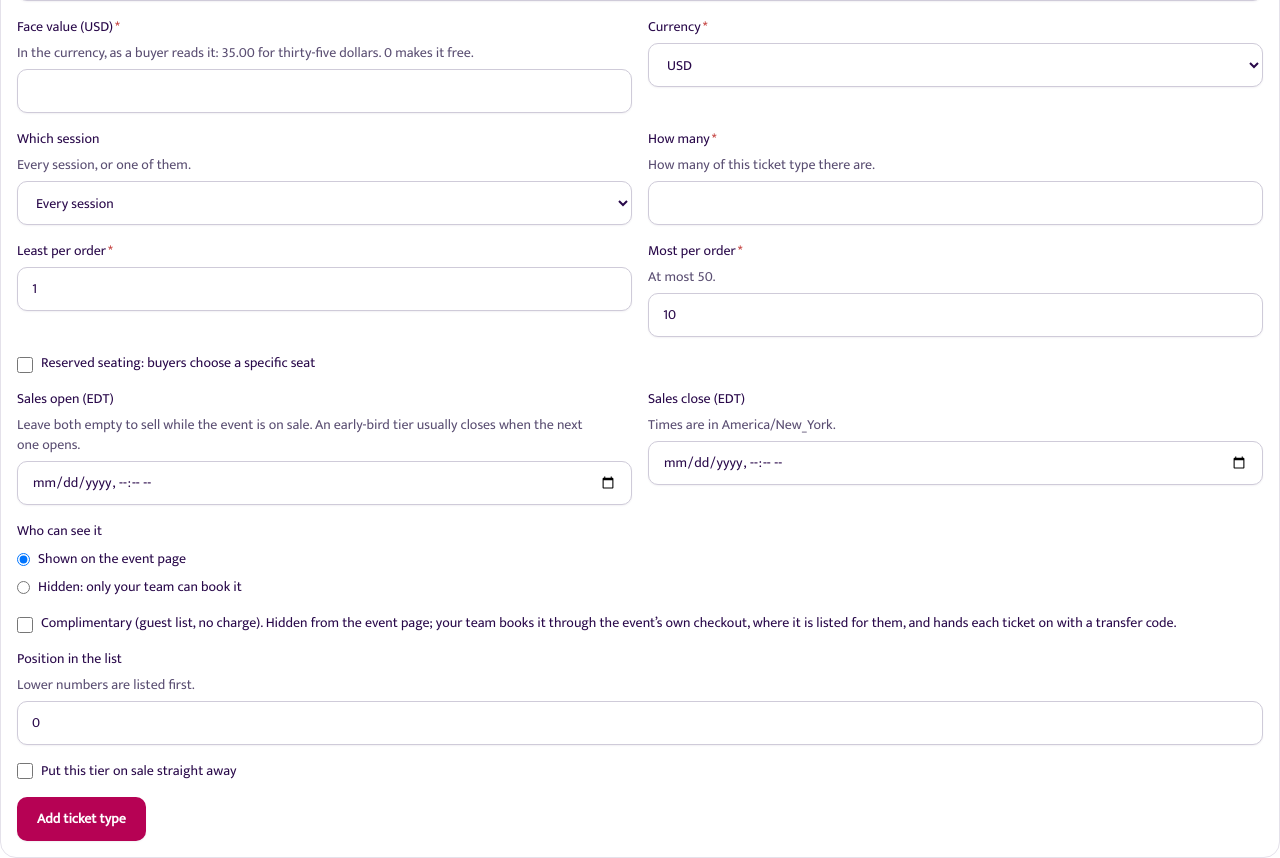
Test: adding a ticket type › makes a complimentary tier free and hidden
This screenshot has width=1280, height=858.
(page scrolled)
Step 1. Click the checkbox labelled "Complimentary" → (25, 625), box left=17, top=617, right=33, bottom=633
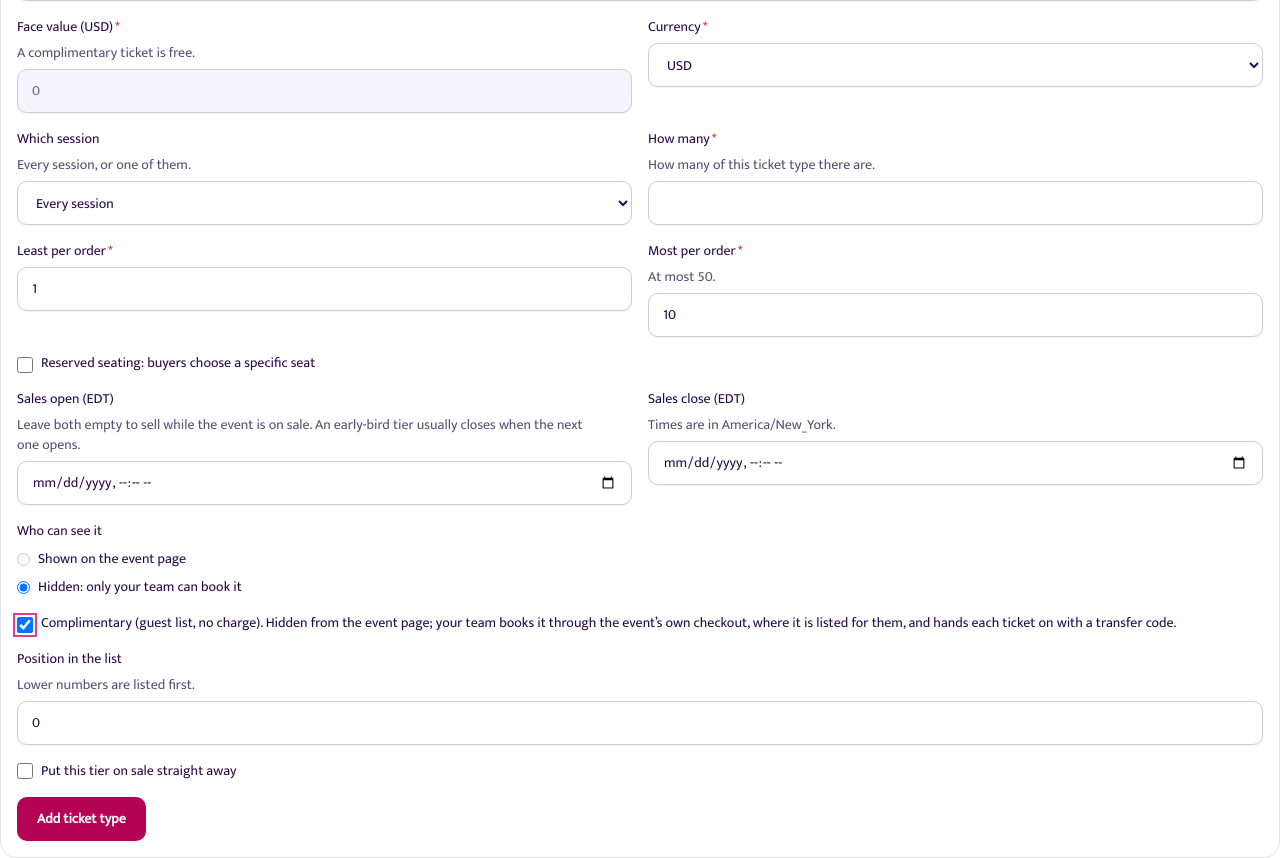
Expected: the field labelled "Face value (USD)*" is disabled, left=17, top=69, right=632, bottom=113
Expected: the radio button labelled "Hidden: only your team can book it" is checked, left=17, top=580, right=30, bottom=594
Expected: the radio button labelled "Shown on the event page" is disabled, left=17, top=552, right=30, bottom=566
